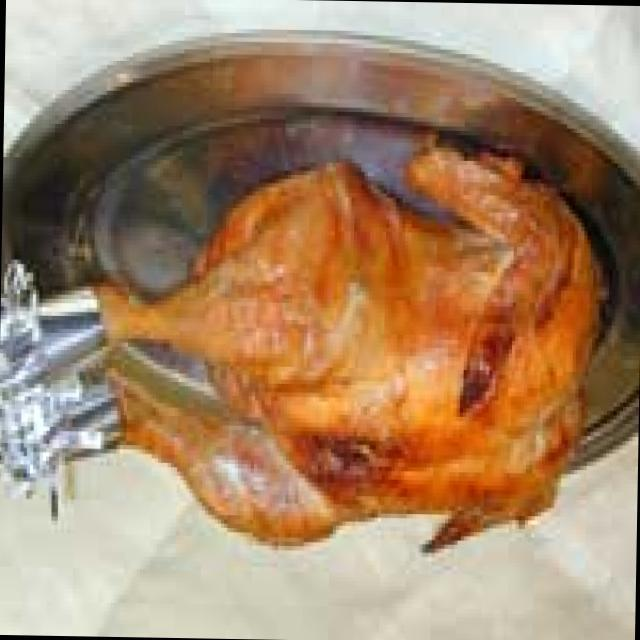Chicken: (101, 126, 598, 549)
